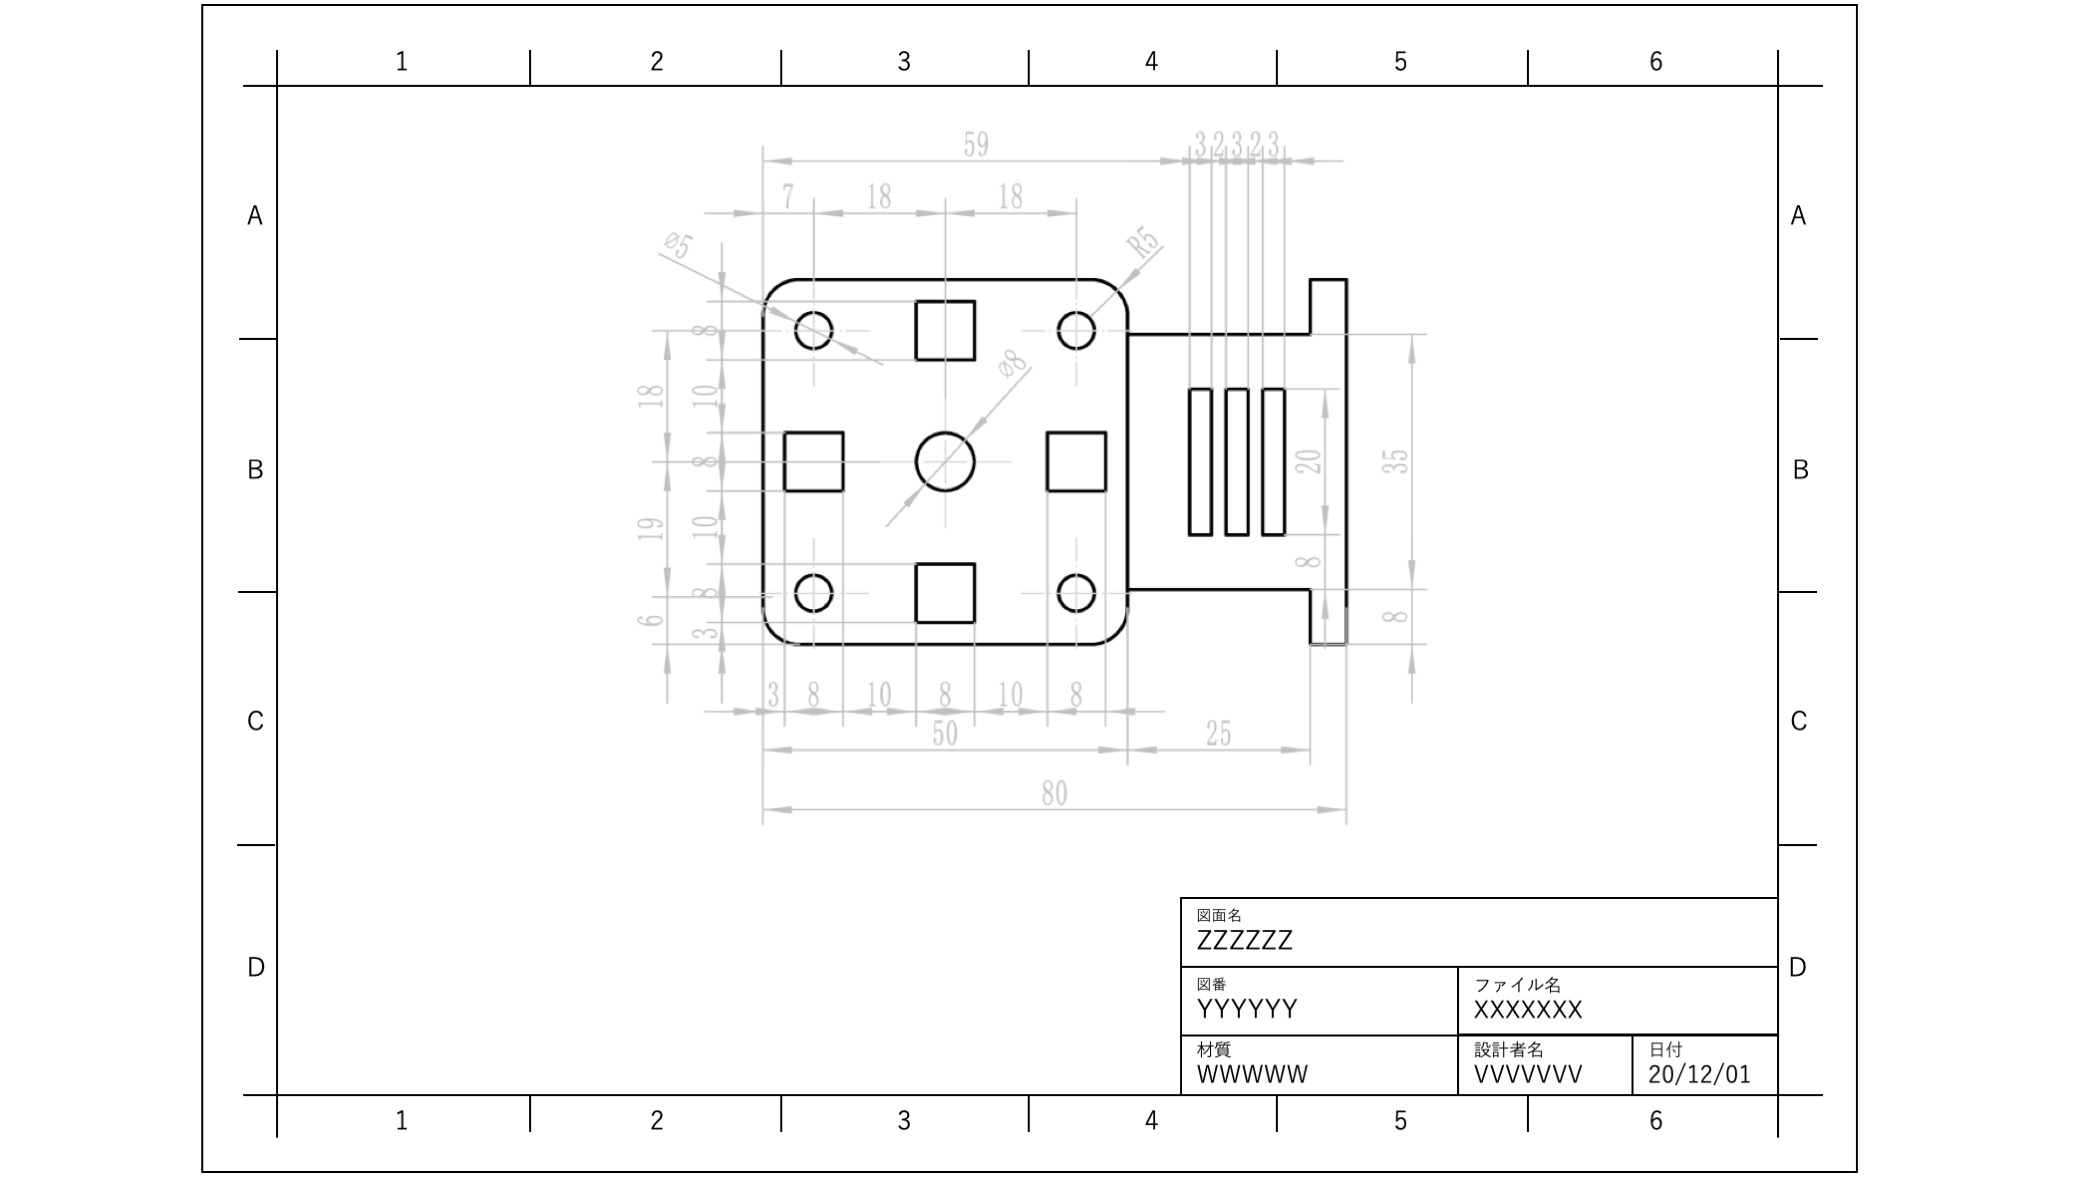circle: (910, 425, 987, 500), (1049, 301, 1103, 358), (787, 298, 839, 352), (789, 565, 837, 617), (1051, 565, 1096, 619)
rectangle: (1174, 375, 1217, 548), (1253, 373, 1292, 548), (904, 551, 982, 630), (1036, 420, 1109, 503), (909, 293, 985, 369), (1217, 376, 1252, 539), (779, 420, 844, 499)
